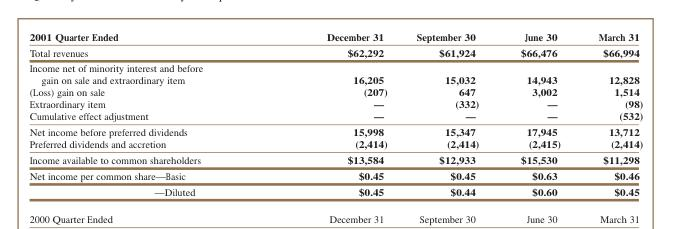table: (28, 29, 642, 197)
table column: (28, 29, 264, 197), (264, 29, 401, 197), (401, 29, 499, 197), (499, 29, 578, 197), (578, 29, 642, 197)
table column header: (28, 29, 642, 44)
table row: (28, 59, 642, 85), (28, 151, 642, 167), (28, 167, 642, 183), (28, 29, 642, 44), (28, 44, 642, 59), (28, 109, 642, 123), (28, 123, 642, 137), (28, 137, 642, 151), (28, 183, 642, 197), (28, 85, 642, 97), (28, 97, 642, 109)
